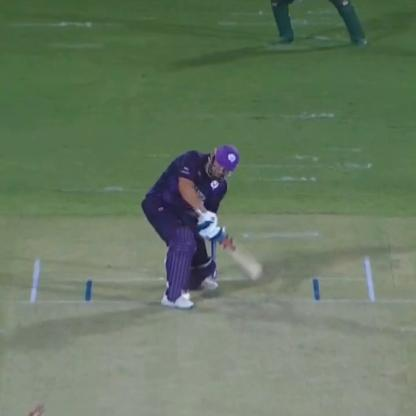ball: (178, 288, 192, 306)
bat: (197, 204, 268, 282)
pitch: (4, 252, 413, 416)
